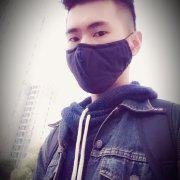OK: (62, 23, 130, 91)
